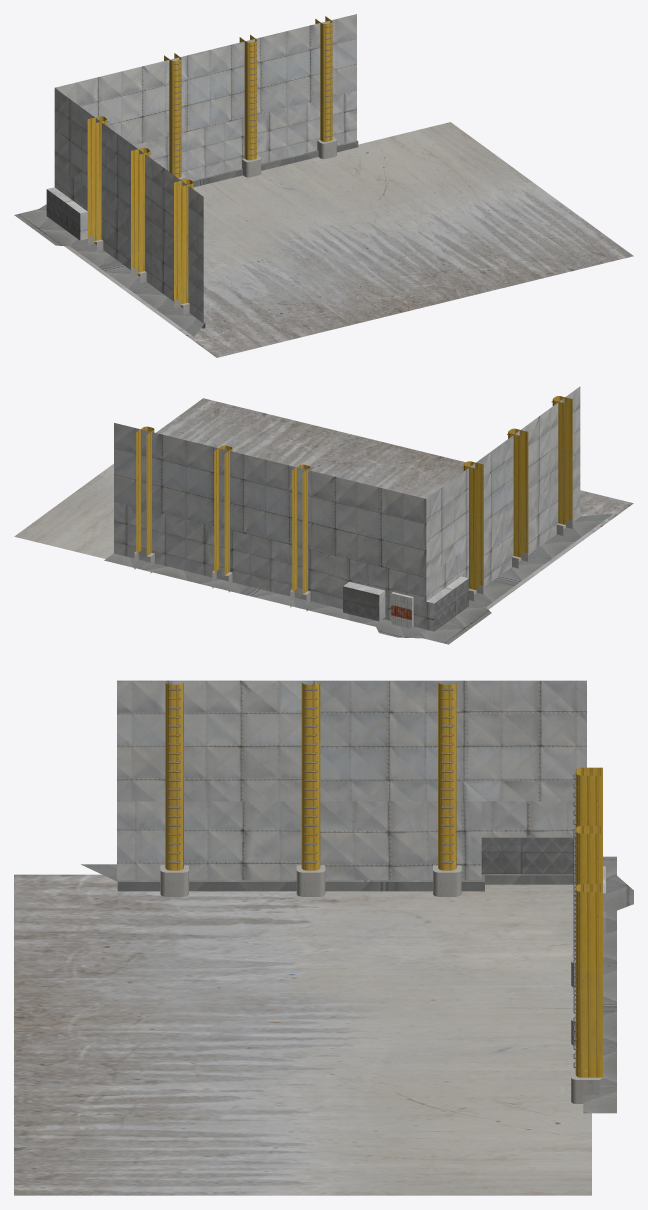
The model's file is factory6.fbx.
3 renders of one model, top to bottom at view 1: azimuth 30°, elevation 25°; view 2: azimuth 150°, elevation 25°; view 3: azimuth 270°, elevation 25°, orthographic. The views are drawn at different scales.
Parts seen in each view (by area): view 1: walls1, wallstrim, pillar6, pillar4, pillar2, pillar3, pillar5, pillar1; view 2: walls1, wallstrim, pillar5, pillar6, pillar4, pillar1, pillar2, pillar3; view 3: walls1, wallstrim, pillar3, pillar5, pillar4, pillar6, pillar2, pillar1.
Boxes of the visible parts, x1,y1,x2,y2 form: walls1: (46,14,633,357); wallstrim: (14,140,358,336); pillar6: (174,179,194,314); pillar4: (87,116,107,251); pillar2: (239,35,261,177); pillar3: (315,16,336,158); pillar5: (131,148,151,283); pillar1: (164,53,185,180); walls1: (14,386,633,631); wallstrim: (104,513,612,644); pillar5: (507,428,528,568); pillar6: (551,396,572,535); pillar4: (462,461,483,600); pillar1: (290,464,310,611); pillar2: (212,445,232,592); pillar3: (134,426,154,573); walls1: (14,680,605,1195); wallstrim: (81,856,633,1113); pillar3: (571,884,602,1103); pillar5: (296,682,325,896); pillar4: (433,682,461,896); pillar6: (160,682,188,896); pillar2: (571,826,602,1045); pillar1: (571,767,602,987).
Size of the model in its own units: 228 by 68.68 by 181.
1 material, 1 textured.
